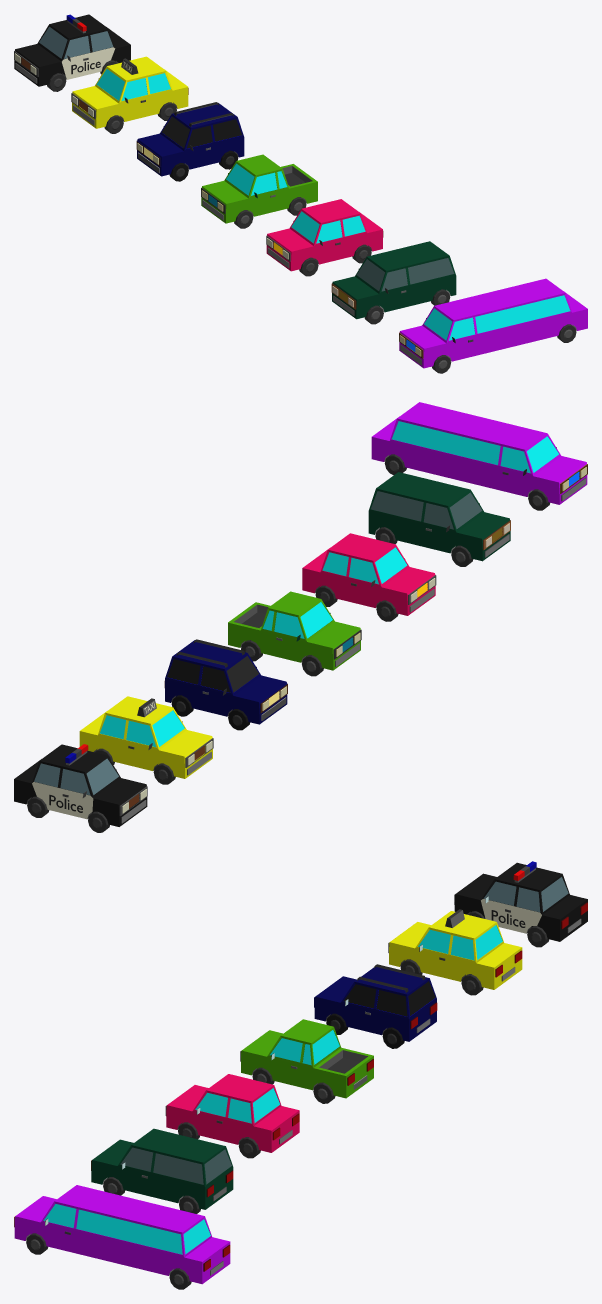
The model's file is Cars.glb.
The picture shows the model from 3 angles, top to bottom: view 1: azimuth 30°, elevation 25°; view 2: azimuth 150°, elevation 25°; view 3: azimuth 330°, elevation 25°; orthographic projection. The views are drawn at different scales.
Visible parts, largest first — view 1: Limousine, Van, Taxi, Car, SUV, Police, Pickup; view 2: Limousine, Van, Police, Car, SUV, Taxi, Pickup; view 3: Limousine, Van, Car, Taxi, Police, SUV, Pickup.
Part boxes in pixels (x1,y1,x2,y2): Limousine: (399,278,587,373); Van: (331,241,456,324); Taxi: (71,56,188,133); Car: (266,199,383,276); SUV: (136,102,244,181); Police: (14,14,130,91); Pickup: (201,154,317,228); Limousine: (371,402,587,510); Van: (368,472,510,566); Police: (14,744,147,832); Car: (302,533,436,621); SUV: (164,639,287,730); Taxi: (79,696,213,784); Pickup: (228,591,361,676); Limousine: (14,1185,230,1289); Van: (91,1128,233,1213); Car: (165,1074,299,1158); Taxi: (388,909,522,995); Police: (454,861,587,947); SUV: (314,964,437,1048); Pickup: (240,1019,373,1103).
Bounding box in the file's own units: 5.92 × 1.89 × 25.48.
Materials: 1 (1 with a texture image).
